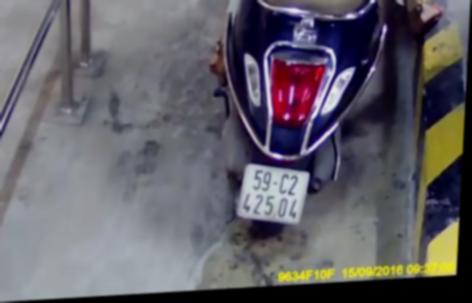License_Plate: (230, 155, 316, 233)
